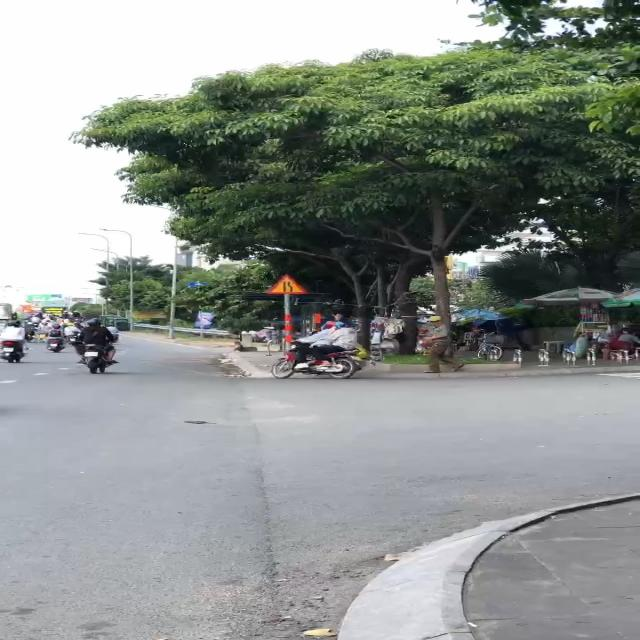Bien bao duong bi thu hep: (260, 272, 312, 298)
